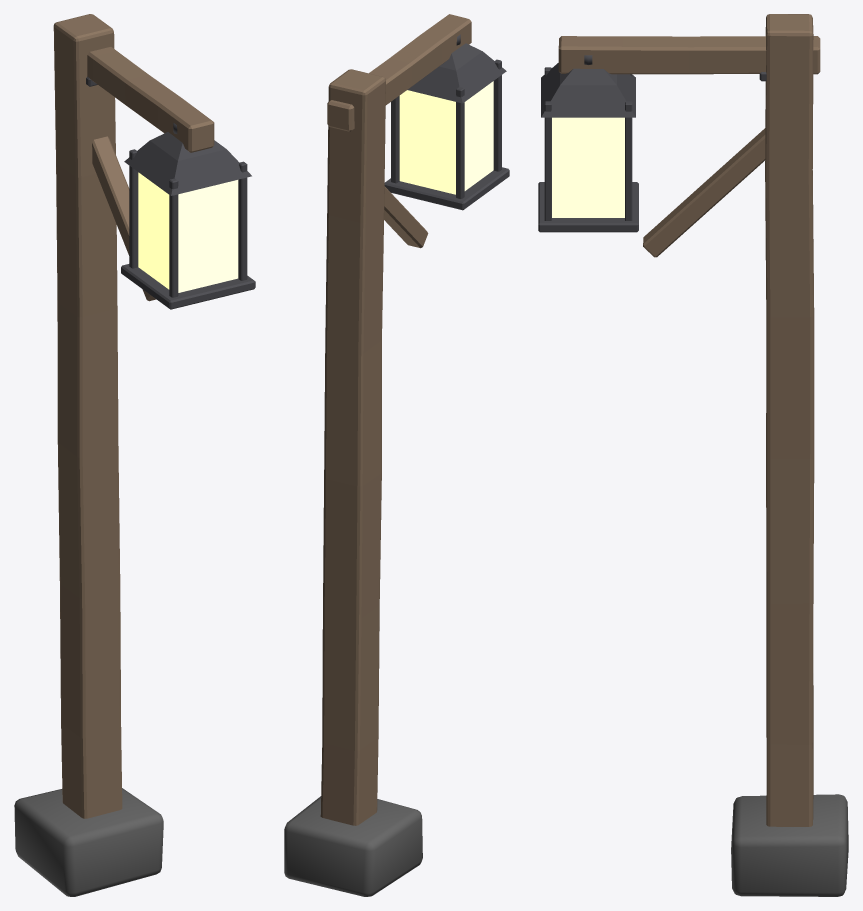
The model's file is lantern.glb.
3 renders of one model, left to right at view 1: azimuth 30°, elevation 25°; view 2: azimuth 150°, elevation 25°; view 3: azimuth 270°, elevation 25°, orthographic. The views are drawn at different scales.
Parts seen in each view (by area): view 1: lantern; view 2: lantern; view 3: lantern.
Part boxes in pixels (x1,y1,x2,y2): lantern: (14,14,255,896); lantern: (284,14,509,896); lantern: (538,14,848,896).
Bounding box in the file's own units: 0.3464 × 2.8 × 0.9256.
